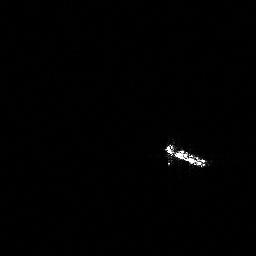ship: (162, 140, 212, 170)
